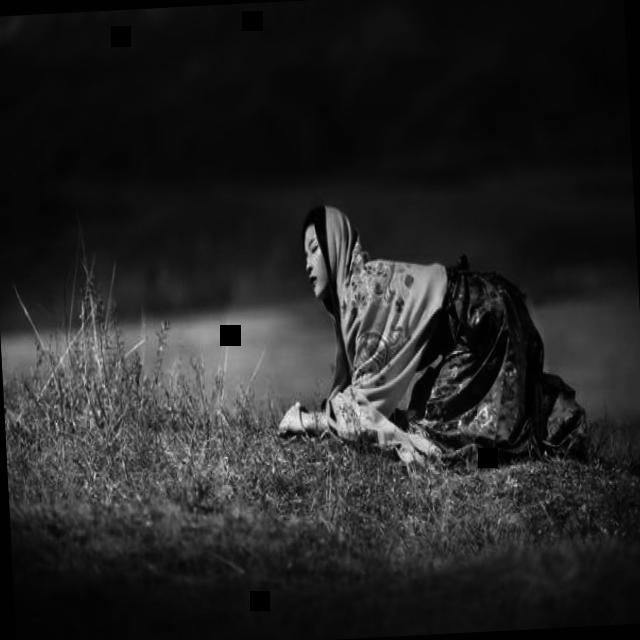Fall-Detected: (259, 180, 618, 498)
